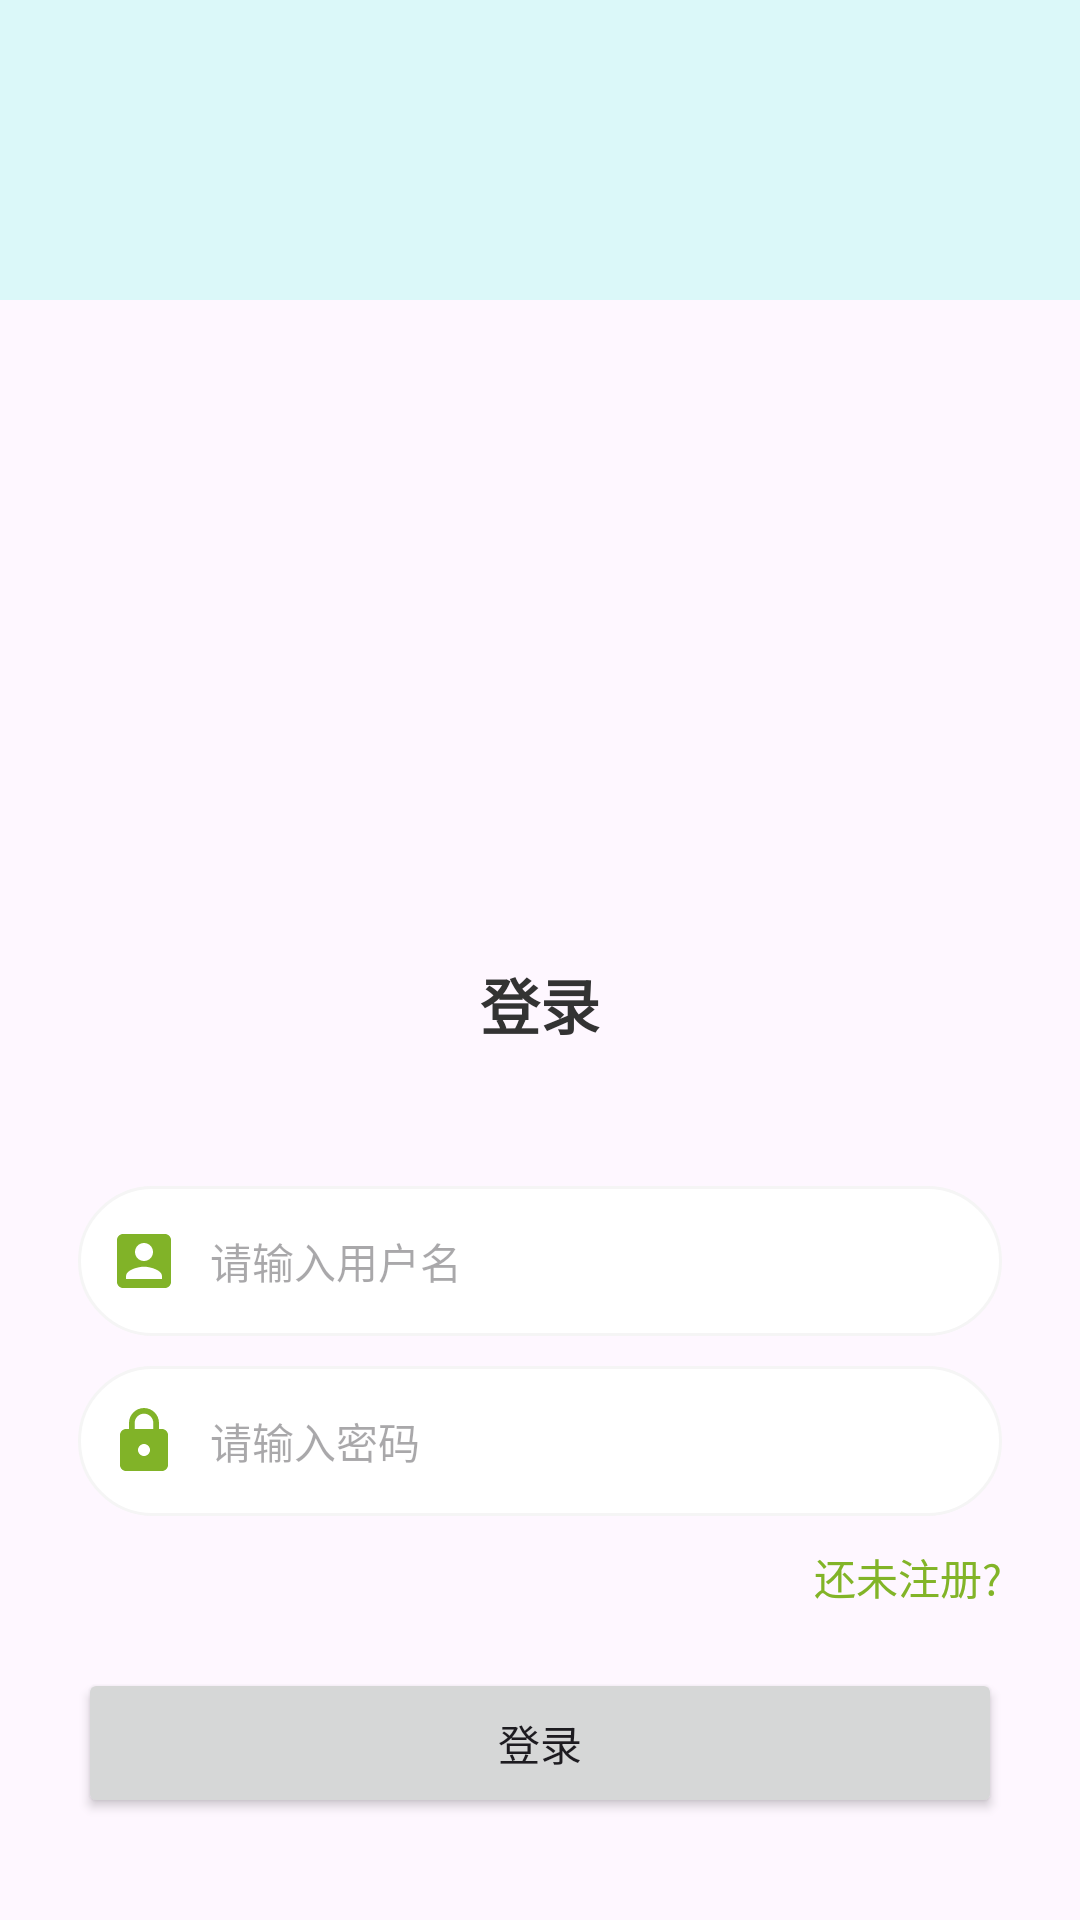

Screen size 1080*1920. Icon name, then its box in pixels as [left=x1, top=y1, right=x2, bottom=y2]:
account box: [left=117, top=1234, right=171, bottom=1288]
